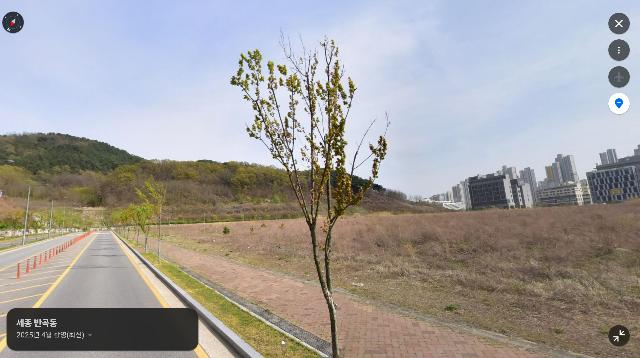other: (230, 26, 392, 358), (134, 179, 168, 265), (124, 202, 149, 253), (116, 210, 141, 247)
